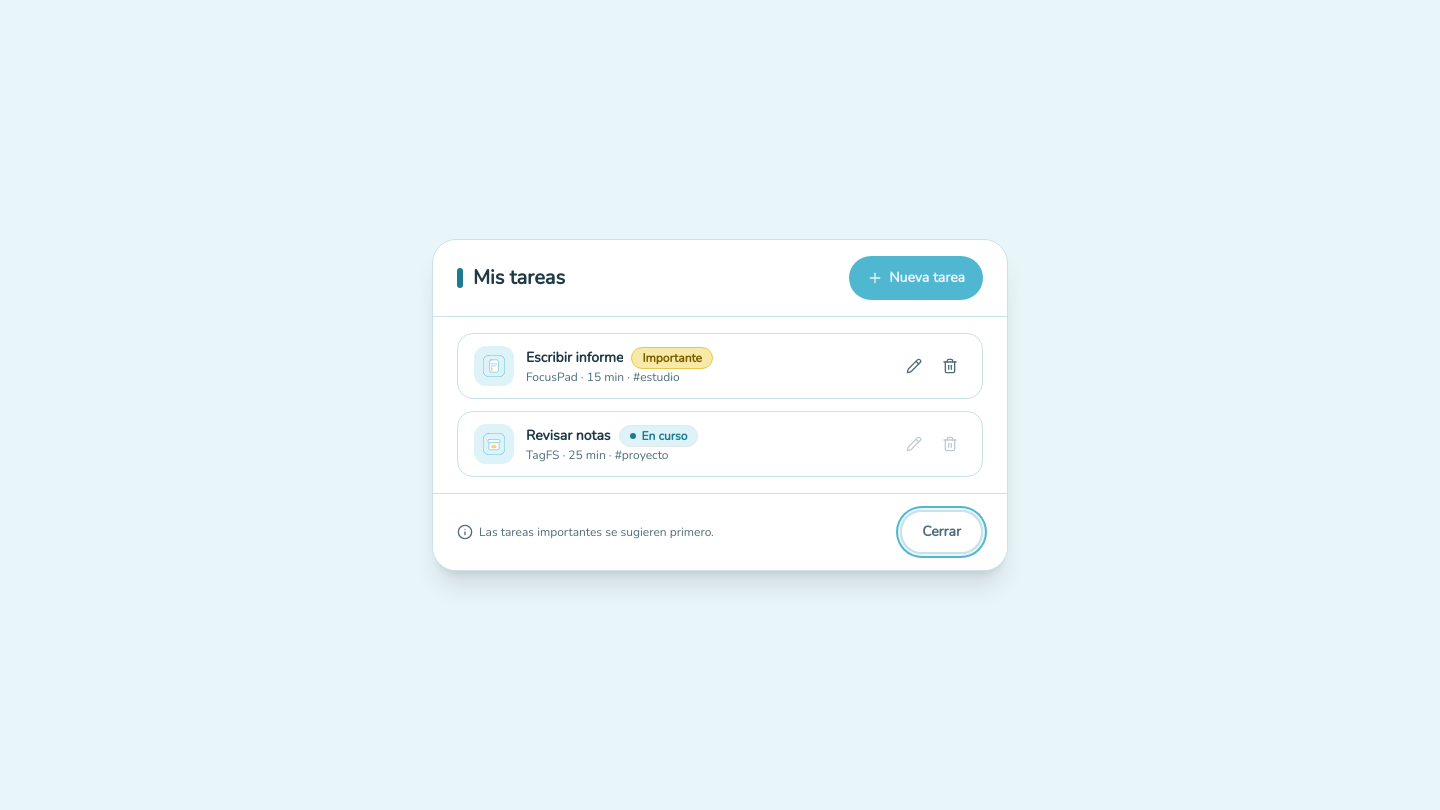
Test: DialogoMisTareas › permite editar una tarea pendiente
Click the button named "Editar Escribir informe": click(914, 366) [898,350,930,382]
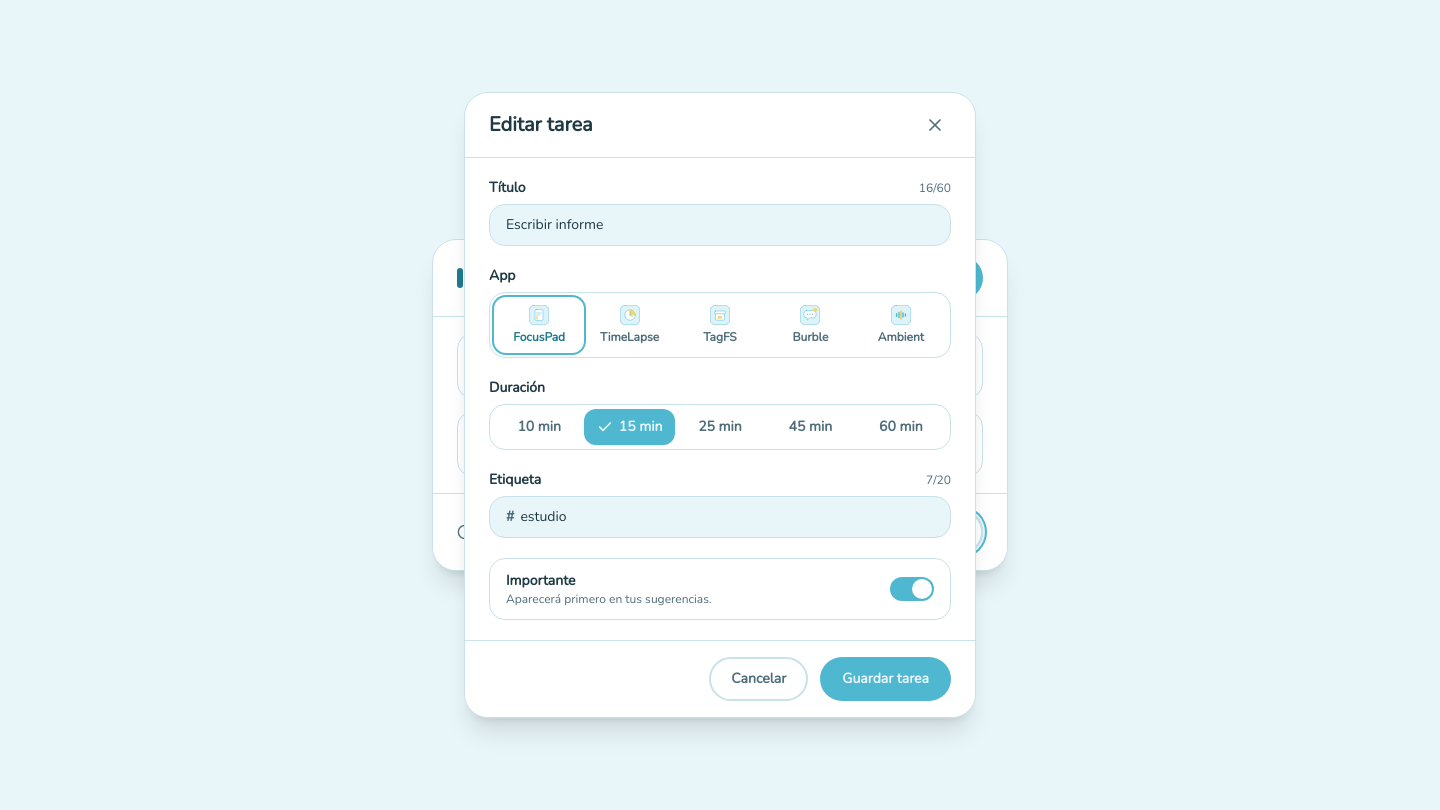
Now the heading "Editar tarea" is shown, box [489,111,593,139]
Replace the text in the field labelled "Título" with "Informe final": (720, 225) [489,204,951,246]
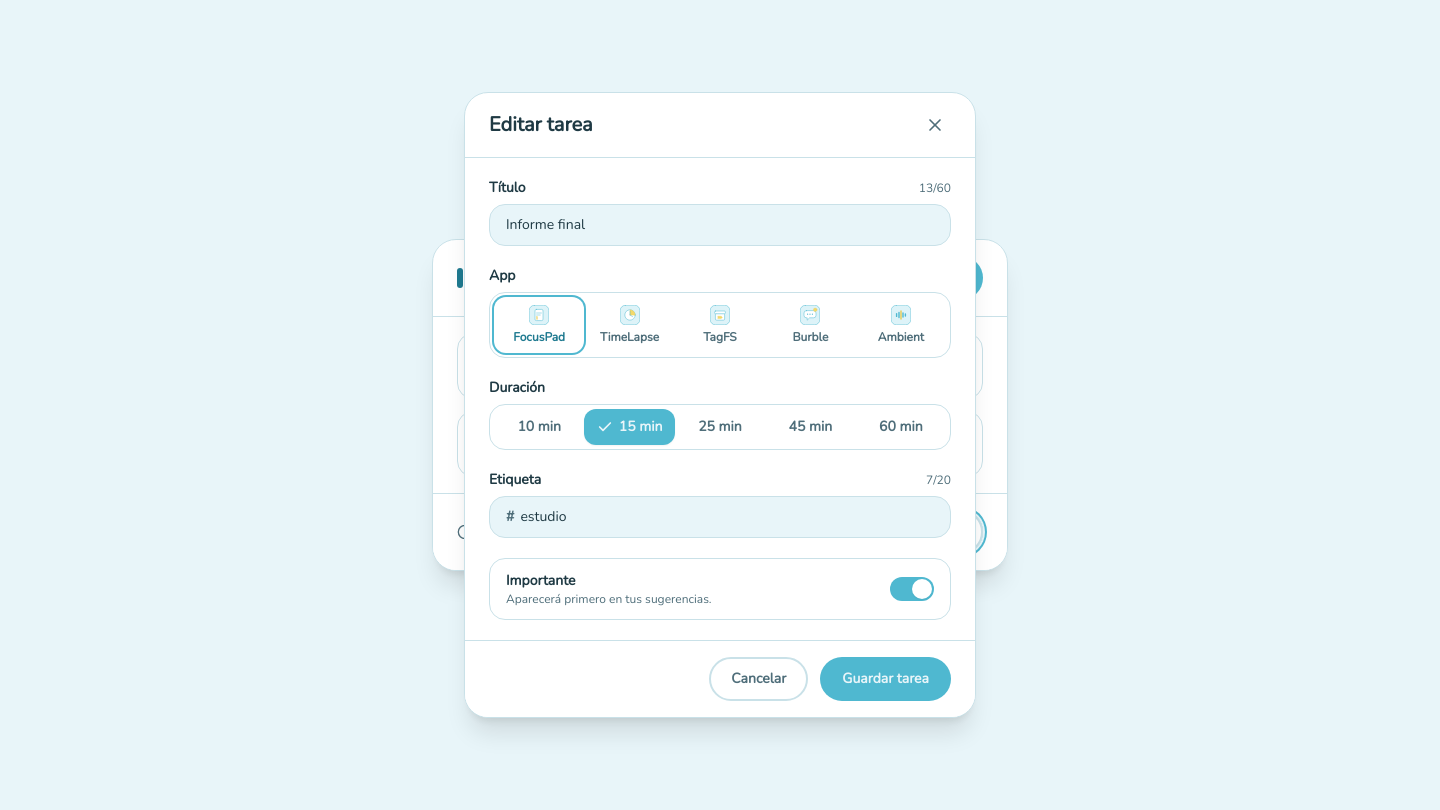
Click the button "Guardar tarea": click(886, 679) [820,657,951,701]
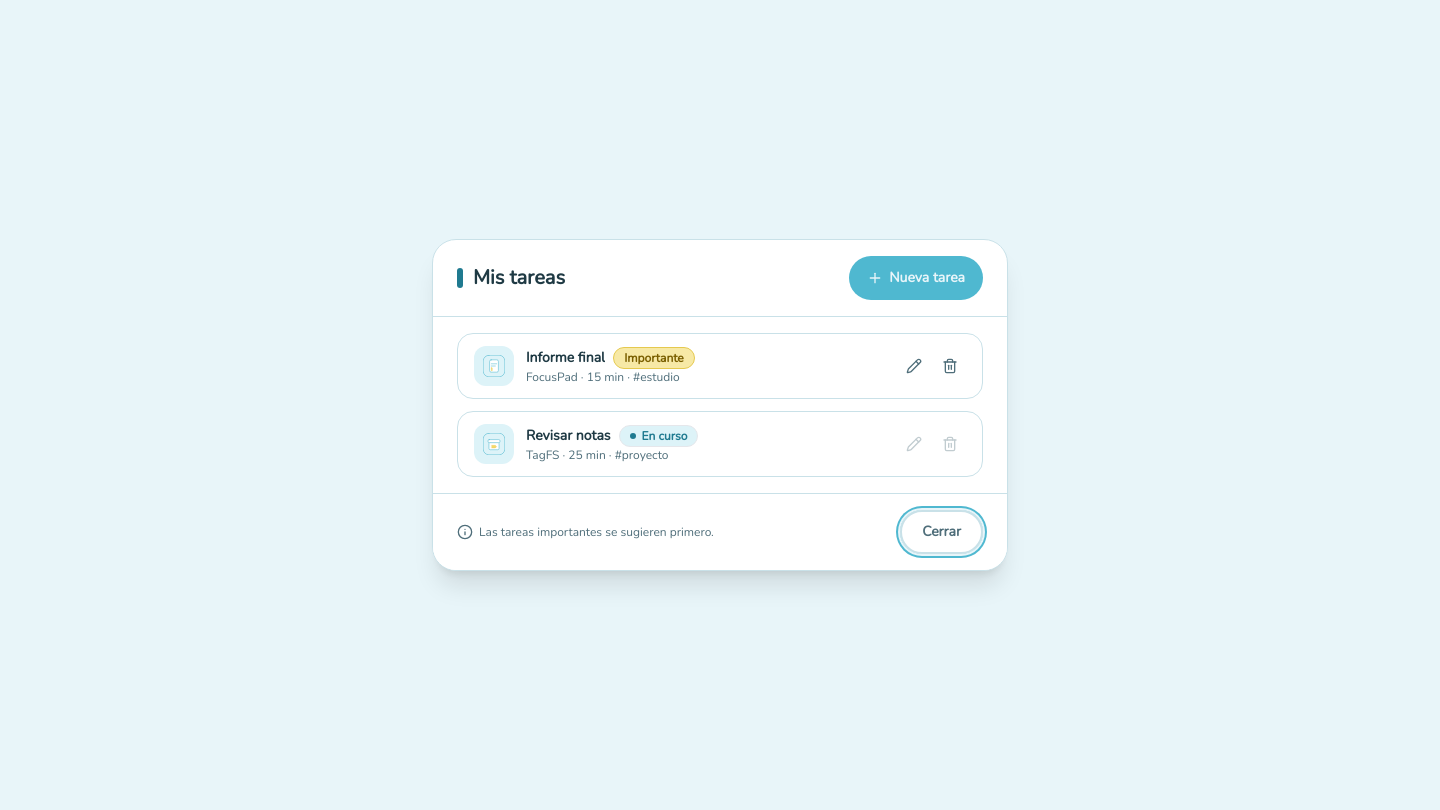
Now the text "Informe final" is shown, box [526,348,605,368]
